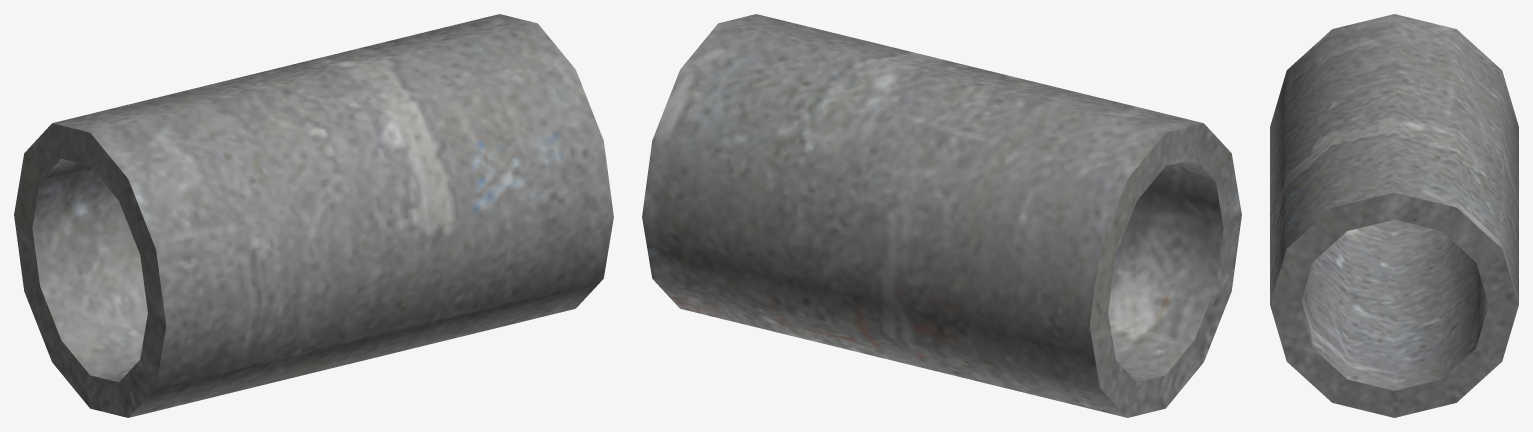
File: ConcretePipe.fbx
The picture shows the model from 3 angles, left to right: view 1: azimuth 30°, elevation 25°; view 2: azimuth 150°, elevation 25°; view 3: azimuth 270°, elevation 25°; orthographic projection. The views are drawn at different scales.
Parts seen in each view (by area): view 1: Cylinder; view 2: Cylinder; view 3: Cylinder.
Boxes of the visible parts, box(x1,y1,x2,y2) form: Cylinder: box(14, 14, 613, 417); Cylinder: box(642, 14, 1241, 417); Cylinder: box(1270, 14, 1518, 417).
Bounding box in the file's own units: 1029 × 606 × 606.
